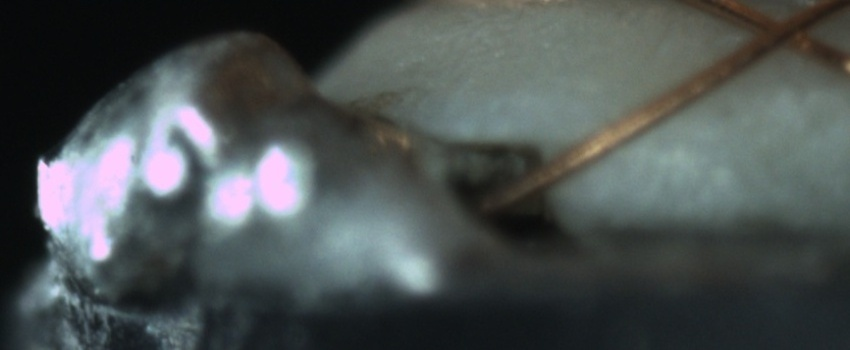CL: (746, 2, 833, 61)
